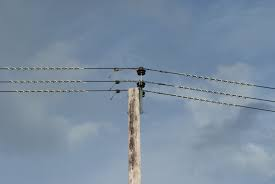utility_pole: (105, 60, 155, 130)
